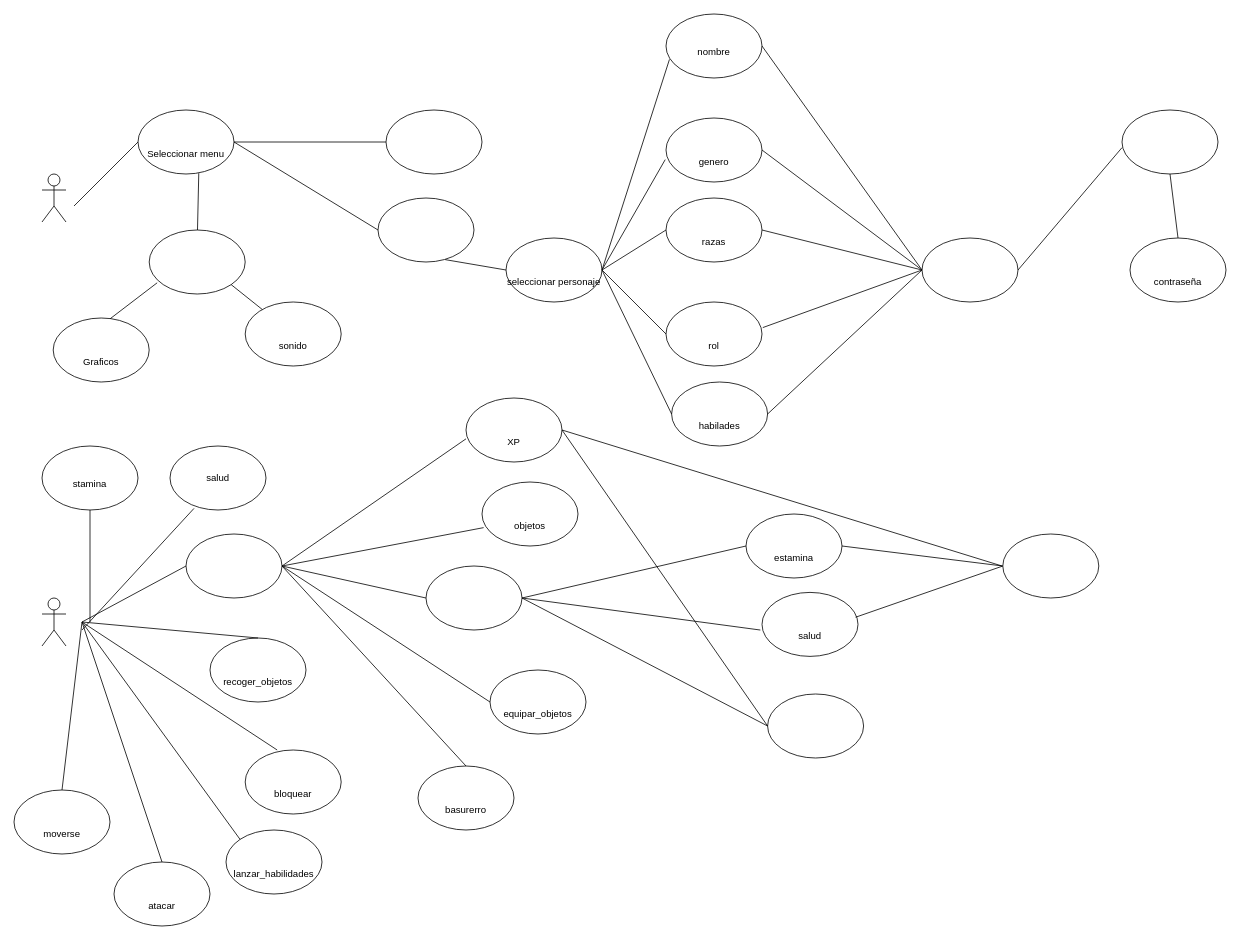
Some shapes in this 1240 by 940 pixel diagram are drawn without their labels. Each missing label, with the centre of its shape:
"cerrar juego" belongs at point (433, 141).
"iniciar cuenta" belongs at point (1169, 141).
"iniciar partida" belongs at point (425, 229).
"inventario" belongs at point (233, 565).
"Juigador" belongs at point (53, 197).
"mejorar" belongs at point (1050, 565).
"mejorar_habilidades" belongs at point (815, 725).
"N°_partida" belongs at point (969, 269).
"opciones" belongs at point (196, 261).
"personaje" belongs at point (53, 621).
"ver_habilidades" belongs at point (473, 597).
